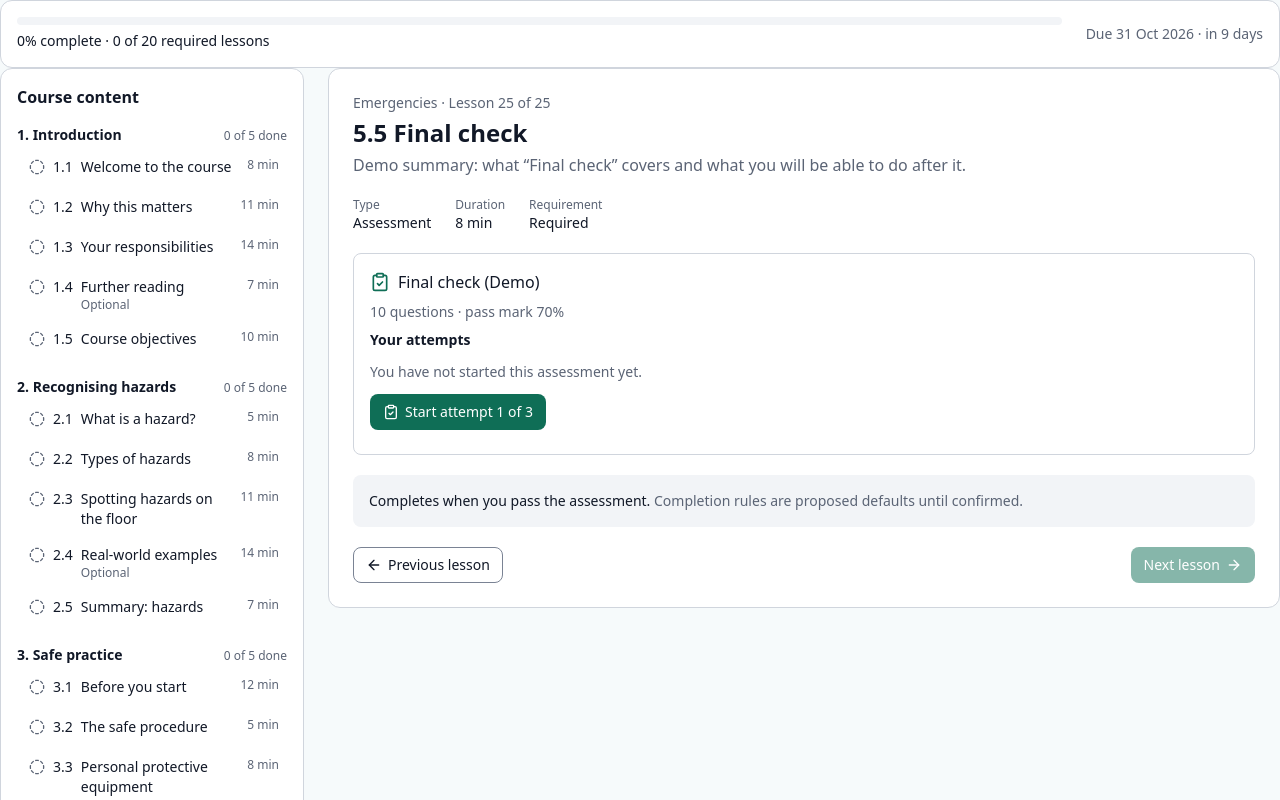
completion actions follow the lesson’s rule (D-041) and are not connected › an assessment lesson with no attempts offers to start one, which is not connected (D-071)
Check: the text "Completes when you pass the assessment." is shown, box [369,491,650,510]
Check: the text "You have not started this assessment yet." is shown, box [370,362,642,381]
Click the button "Start attempt 1 of 3" at (458, 412), box [370,394,546,430]
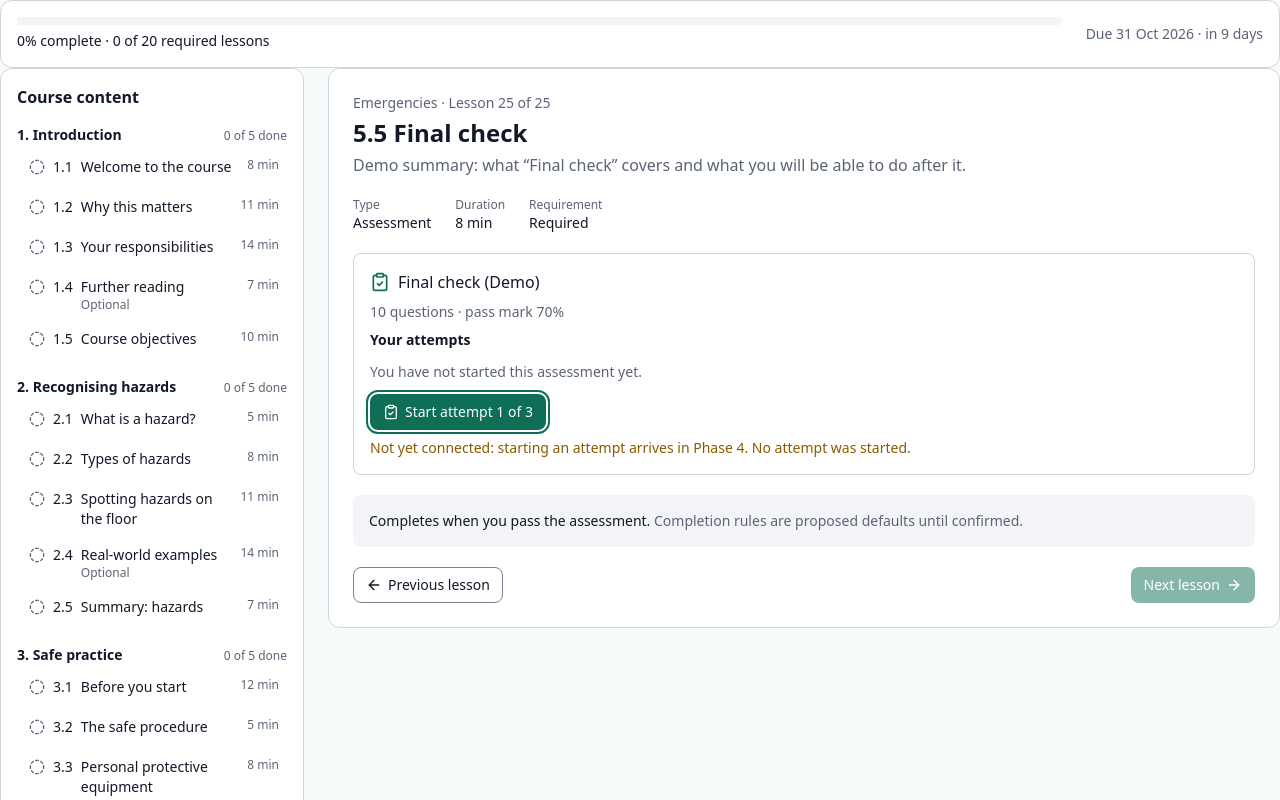
Check: the message shows "No attempt was started.", box [370,438,911,457]
